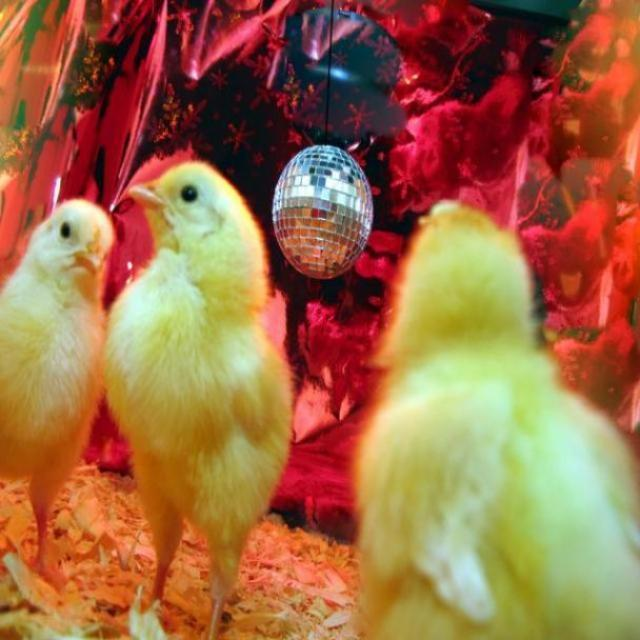Chicken: (106, 136, 294, 640)
